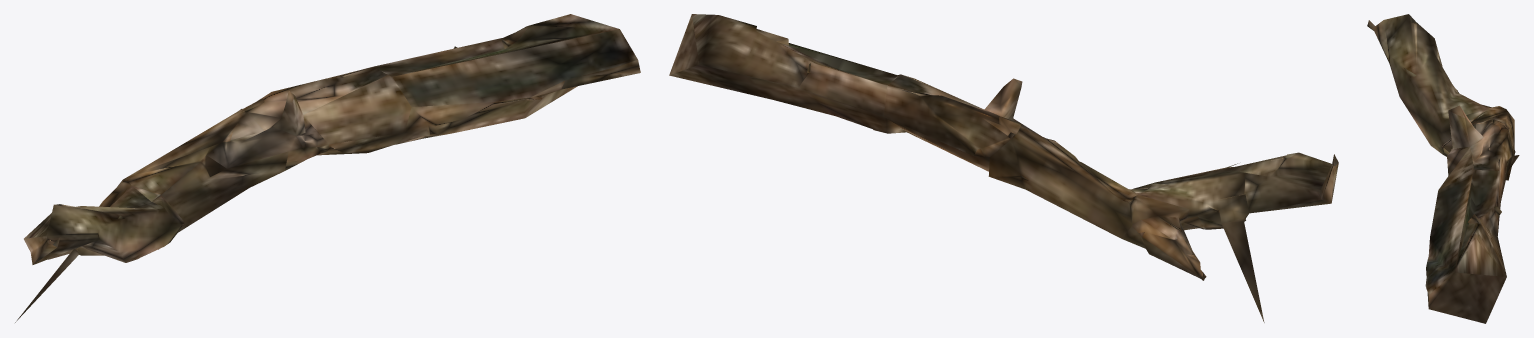
The model's file is dead_tree_trunk_02_far.glb.
3 renders of one model, left to right at view 1: azimuth 30°, elevation 25°; view 2: azimuth 150°, elevation 25°; view 3: azimuth 270°, elevation 25°, orthographic. The views are drawn at different scales.
Parts seen in each view (by area): view 1: dead_tree_trunk_02; view 2: dead_tree_trunk_02; view 3: dead_tree_trunk_02.
Part boxes in pixels (x1,y1,x2,y2): dead_tree_trunk_02: (15, 14, 640, 322); dead_tree_trunk_02: (669, 14, 1338, 322); dead_tree_trunk_02: (1367, 14, 1519, 323).
Size of the model in its own units: 3.73 by 1.01 by 0.8367.
1 material, 1 textured.
